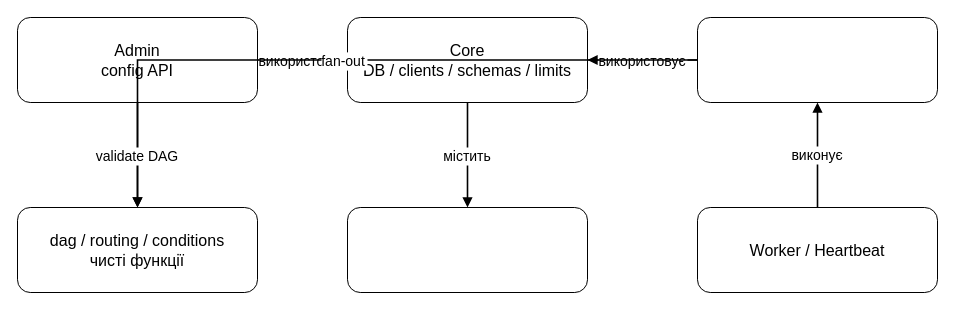
Image size: 955x310. Some labels were removed from this diagram. The box of each missing label's shape, as (x1, y1, x2, y2) in pixels:
Database / Runs: (346, 206, 588, 292)
Engine claim / feed / item / reap: (696, 16, 938, 102)
